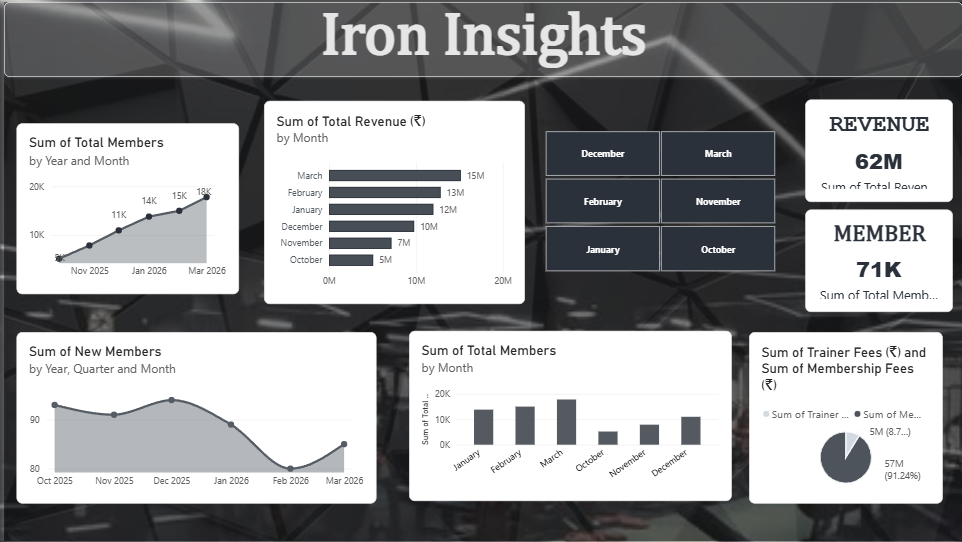

What the dashboard file says about the page in this screenshot:
{"tool":"powerbi","page":{"name":"Page 1","canvas":[1280,720],"ordinal":0},"visuals":[{"type":"textbox","box":[0,0,1280,100],"z":0},{"type":"lineChart","fields":{"Category":["Gym Dashboard Data.Date.Variation.Date Hierarchy.Year","Gym Dashboard Data.Date.Variation.Date Hierarchy.Month"],"Y":["Sum(Gym Dashboard Data.Total Members)"]},"box":[16.7,162.2,296.7,227.8],"z":1000},{"type":"lineChart","fields":{"Category":["Gym Dashboard Data.Date.Variation.Date Hierarchy.Year","Gym Dashboard Data.Date.Variation.Date Hierarchy.Quarter","Gym Dashboard Data.Date.Variation.Date Hierarchy.Month","Gym Dashboard Data.Date.Variation.Date Hierarchy.Day"],"Y":["Sum(Gym Dashboard Data.New Members)"]},"box":[17.1,440,480,228.6],"z":2000},{"type":"clusteredBarChart","fields":{"Category":["Gym Dashboard Data.Month"],"Y":["Sum(Gym Dashboard Data.Total Revenue (₹))"]},"box":[346.7,131.1,347.8,271.1],"z":3000},{"type":"pieChart","fields":{"Y":["Sum(Gym Dashboard Data.Trainer Fees (₹))","Sum(Gym Dashboard Data.Membership Fees (₹))"]},"box":[992.9,440,258.6,228.6],"z":4000},{"type":"lineStackedColumnComboChart","fields":{"Category":["Gym Dashboard Data.Date.Variation.Date Hierarchy.Month"],"Y":["Sum(Gym Dashboard Data.Total Members)"]},"box":[540,438.6,430,227.1],"z":5000},{"type":"slicer","fields":{"Values":["Gym Dashboard Data.Month"]},"box":[702.2,151.1,345.6,208.9],"z":6000},{"type":"card","title":"REVENUE","fields":{"Values":["Sum(Gym Dashboard Data.Total Revenue (₹))"]},"box":[1068.3,130,196.7,136.7],"z":7000},{"type":"card","title":"MEMBER","fields":{"Values":["Sum(Gym Dashboard Data.Total Members)"]},"box":[1068.3,276.7,196.7,136.7],"z":8000}]}

Visuals, with their boxes in screenshot pixels (x1, y1, x2, y2), scaled from the page's 1280x720 canvas onto the 962x542 screenshot:
textbox: 0/0/961/75
lineChart - Gym Dashboard Data.Date.Variation.Date Hierarchy.Year x Gym Dashboard Data.Date.Variation.Date Hierarchy.Month: 13/122/236/294
lineChart - Gym Dashboard Data.Date.Variation.Date Hierarchy.Year x Gym Dashboard Data.Date.Variation.Date Hierarchy.Quarter: 13/331/374/503
clusteredBarChart - Gym Dashboard Data.Month x Sum(Gym Dashboard Data.Total Revenue (₹)): 261/99/522/303
pieChart - Sum(Gym Dashboard Data.Trainer Fees (₹)) x Sum(Gym Dashboard Data.Membership Fees (₹)): 746/331/941/503
lineStackedColumnComboChart - Gym Dashboard Data.Date.Variation.Date Hierarchy.Month x Sum(Gym Dashboard Data.Total Members): 406/330/729/501
slicer - Gym Dashboard Data.Month: 528/114/787/271
"REVENUE" card: 803/98/951/201
"MEMBER" card: 803/208/951/311
